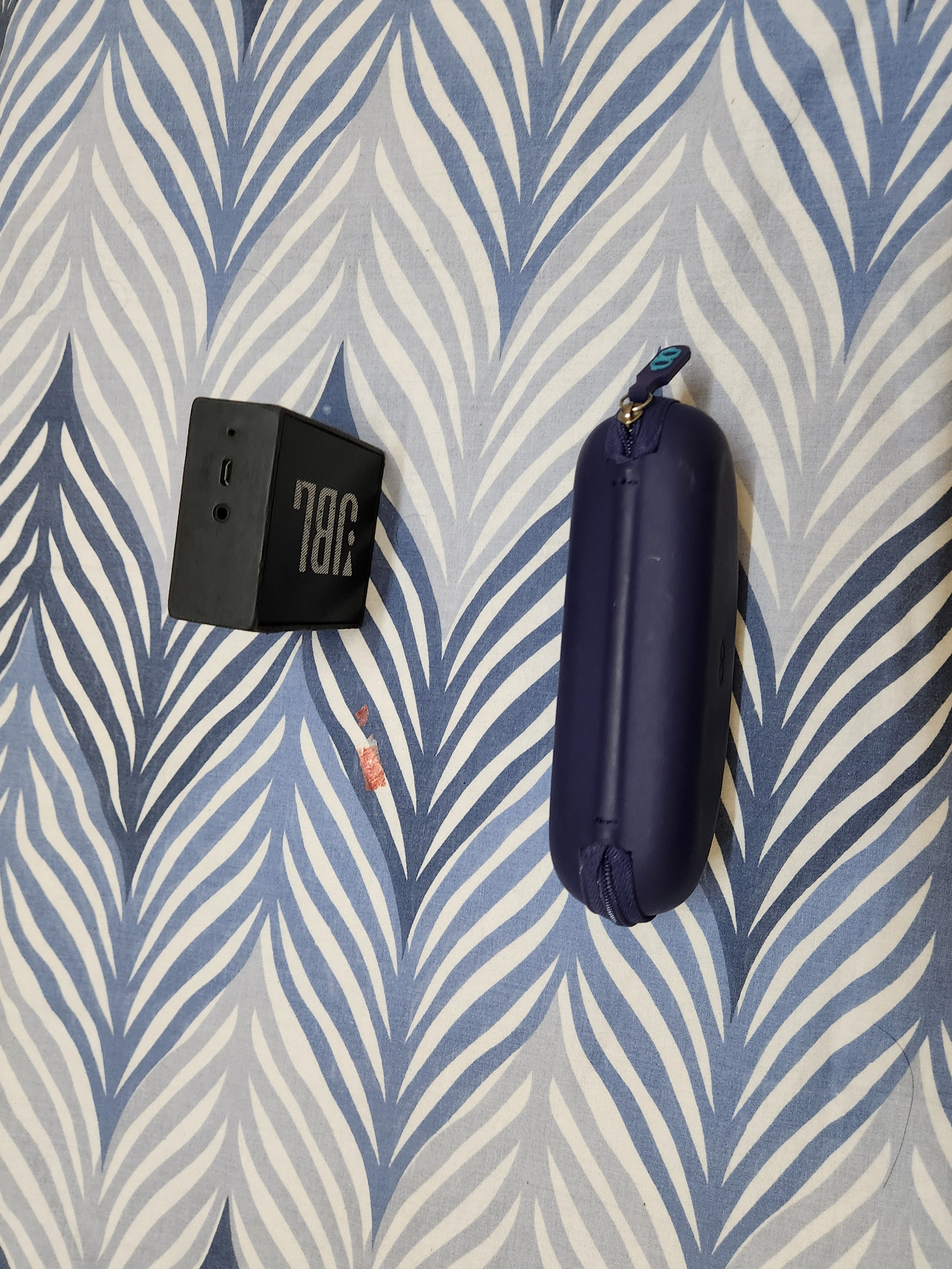case: (552, 337, 748, 927)
speaker: (171, 395, 390, 638)
